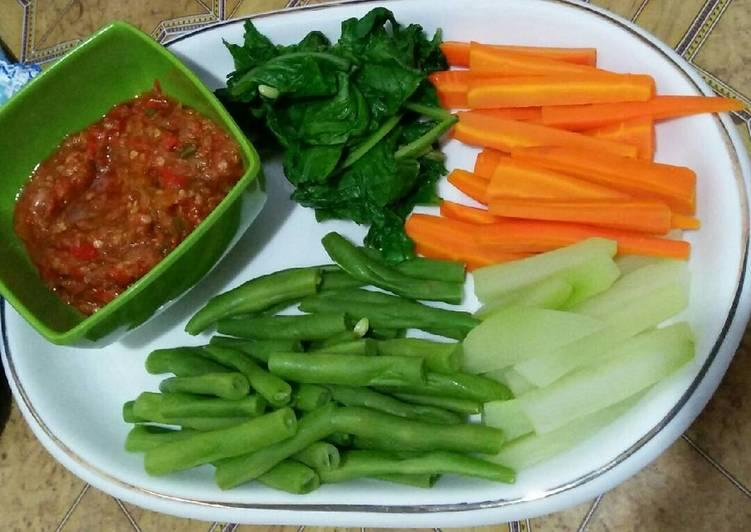buah_sayur_lainnya: (230, 307, 428, 470), (510, 294, 637, 400), (304, 59, 400, 174)
buah_sayur_vitA: (483, 62, 615, 221), (46, 148, 174, 254)
